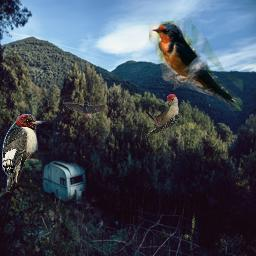Swallow: (149, 20, 243, 111), (62, 101, 106, 122)
Woodpecker: (2, 114, 45, 192), (146, 94, 179, 138)
